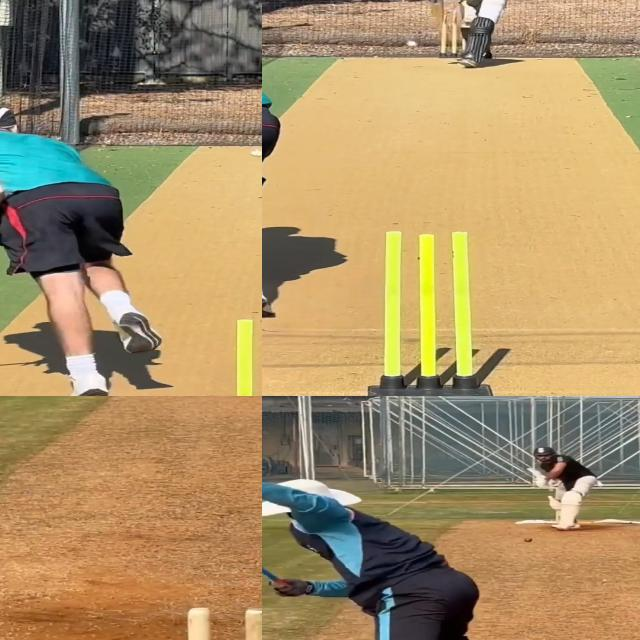Cricket ball: (248, 148, 262, 158), (405, 40, 419, 47), (524, 536, 533, 542)
Stumps: (367, 227, 496, 396), (441, 9, 468, 59)
